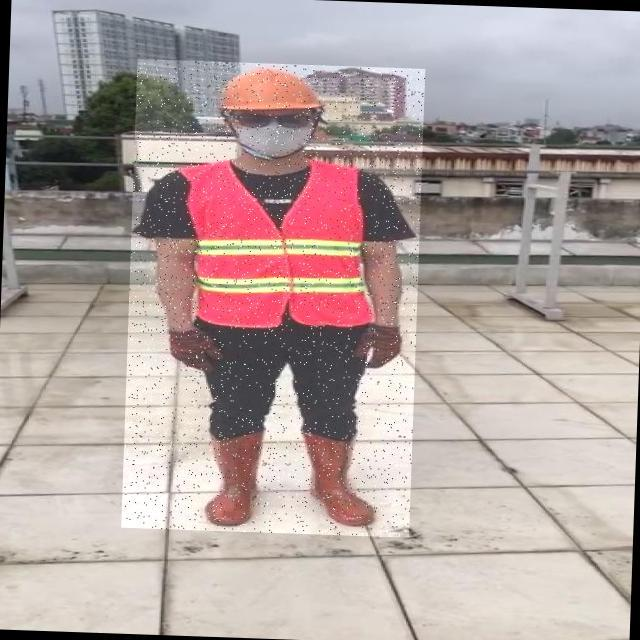Gloves: (166, 327, 229, 372), (352, 323, 400, 369)
Helmet: (217, 62, 321, 118)
Human: (121, 59, 425, 538)
Safety Boot: (301, 430, 374, 527), (203, 430, 264, 525)
Safety Vest: (188, 158, 378, 329)
